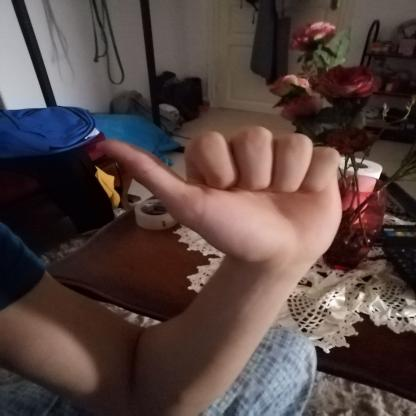DAD: (75, 117, 367, 280)
